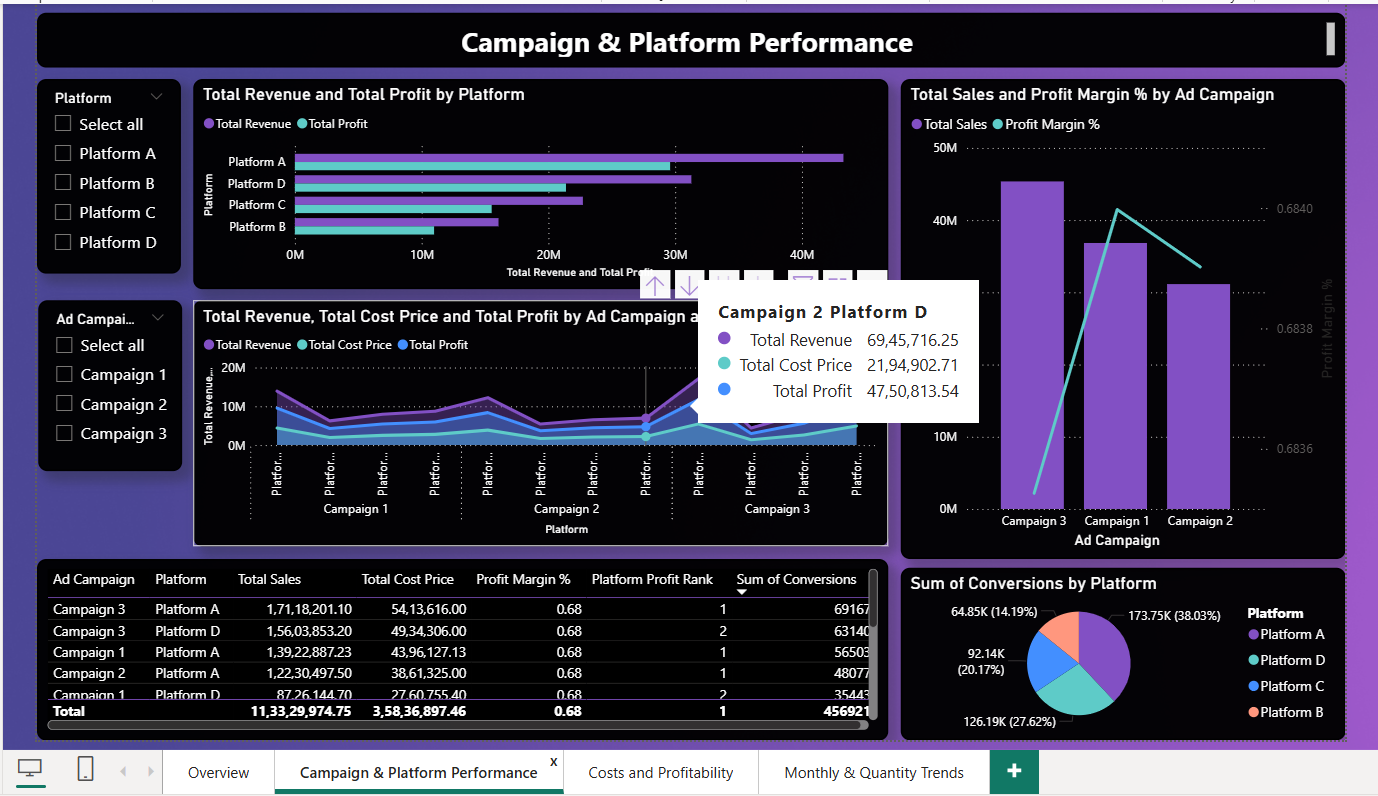

Layout of this report page (visuals, bound fields, positions):
{"tool":"powerbi","page":{"name":"Campaign & Platform Performance","canvas":[1280,720],"ordinal":1},"visuals":[{"type":"textbox","box":[0,8.6,1280.3,53.8],"z":0},{"type":"slicer","fields":{"Values":["Data.Platform"]},"box":[0,73.4,140.6,190.8],"z":1000},{"type":"slicer","fields":{"Values":["Data.Ad Campaign"]},"box":[1.2,289.8,140.6,167.5],"z":2000},{"type":"clusteredBarChart","fields":{"Category":["Data.Platform"],"Y":["Data.Total Revenue","Data.Total Profit"]},"box":[152.9,73.4,679.9,205.4],"z":3000},{"type":"areaChart","fields":{"Category":["Data.Ad Campaign","Data.Platform"],"Y":["Data.Total Revenue","Data.Total Cost Price","Data.Total Profit"]},"box":[152.9,289.8,679.9,240.9],"z":4000},{"type":"tableEx","fields":{"Values":["Data.Ad Campaign","Data.Platform","Data.Total Sales","Data.Total Cost Price","Data.Profit Margin %","Data.Platform Profit Rank","Sum(Data.Conversions)"]},"box":[0,542.9,832.7,177.3],"z":5000},{"type":"lineClusteredColumnComboChart","fields":{"Category":["Data.Ad Campaign"],"Y":["Data.Total Sales"],"Y2":["Data.Profit Margin %"]},"box":[845,73.4,435.3,469.6],"z":6000},{"type":"pieChart","fields":{"Y":["Sum(Data.Conversions)"],"Category":["Data.Platform"]},"box":[845,551.5,435.3,168.8],"z":7000}]}

Visuals, with their boxes on the page's 1280x720 design canvas (x1, y1, x2, y2). These are canvas units, not pixel positions in the 1378x796 screenshot, which may show the page scaled, cropped or inside an application window:
textbox: {"x1": 0, "y1": 9, "x2": 1280, "y2": 62}
slicer - Data.Platform: {"x1": 0, "y1": 73, "x2": 141, "y2": 264}
slicer - Data.Ad Campaign: {"x1": 1, "y1": 290, "x2": 142, "y2": 457}
clusteredBarChart - Data.Platform x Data.Total Revenue: {"x1": 153, "y1": 73, "x2": 833, "y2": 279}
areaChart - Data.Ad Campaign x Data.Platform: {"x1": 153, "y1": 290, "x2": 833, "y2": 531}
tableEx - Data.Ad Campaign x Data.Platform: {"x1": 0, "y1": 543, "x2": 833, "y2": 720}
lineClusteredColumnComboChart - Data.Ad Campaign x Data.Total Sales: {"x1": 845, "y1": 73, "x2": 1280, "y2": 543}
pieChart - Sum(Data.Conversions) x Data.Platform: {"x1": 845, "y1": 552, "x2": 1280, "y2": 720}
